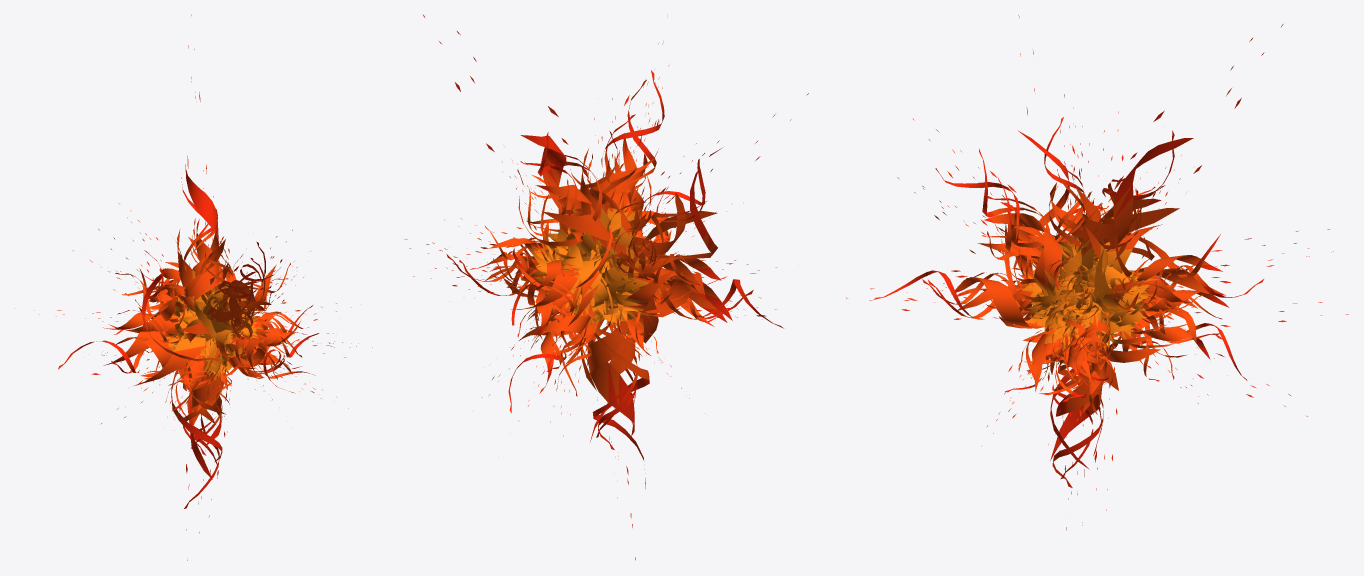
File: fireball_15.obj
3 renders of one model, left to right at view 1: azimuth 30°, elevation 25°; view 2: azimuth 150°, elevation 25°; view 3: azimuth 270°, elevation 25°, orthographic. The views are drawn at different scales.
Visible parts, largest first — view 1: Fireball; view 2: Fireball; view 3: Fireball.
Boxes of the visible parts, x1,y1,x2,y2 form: Fireball: [34, 14, 372, 560]; Fireball: [404, 15, 808, 560]; Fireball: [846, 15, 1348, 530].
Bounding box in the file's own units: 1.72 × 2.27 × 1.76.
